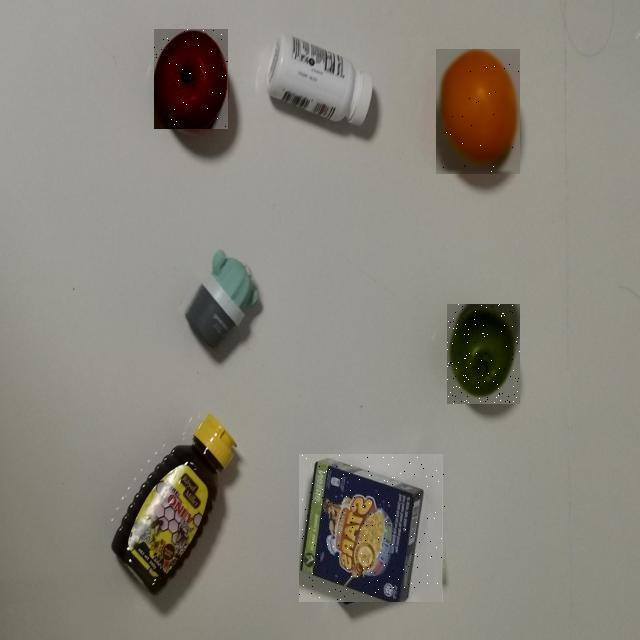Apple: (154, 29, 228, 129), (447, 304, 520, 404)
Cereal: (300, 454, 446, 602)
Orange: (436, 50, 520, 176)
